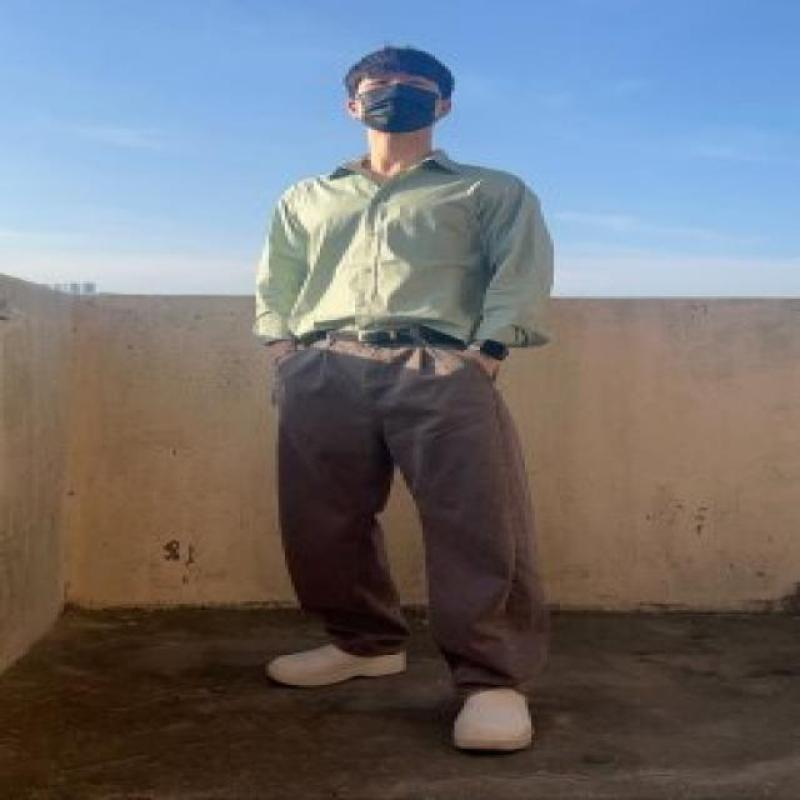long sleeve shirt: (250, 146, 554, 349)
trousers: (272, 334, 550, 699)
